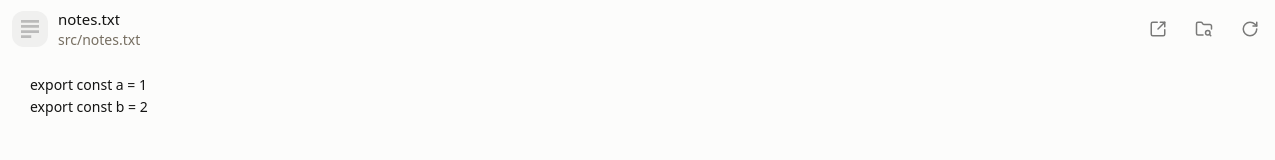
Test: round 53 · 预览标签里选中文字的自绘右键菜单 › 没有选区：菜单只有「全选」
The image size is (1275, 160).
Right-click the element with test id "file-preview-text" at (89, 96), box 30,75 -> 148,116
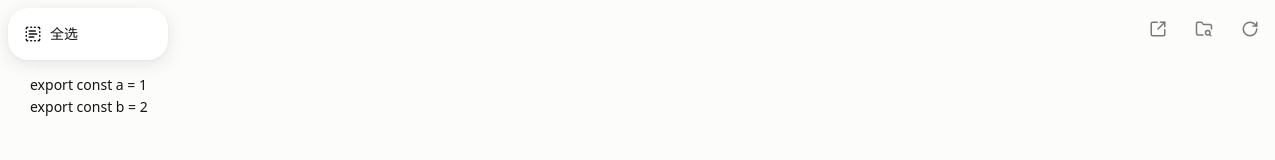
expect the menu items read "全选", in this order: met, box 16,16 -> 160,52
